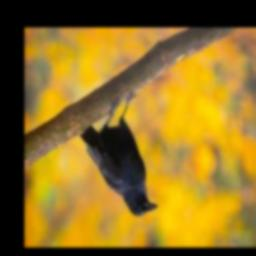Crow: (78, 90, 158, 216)
